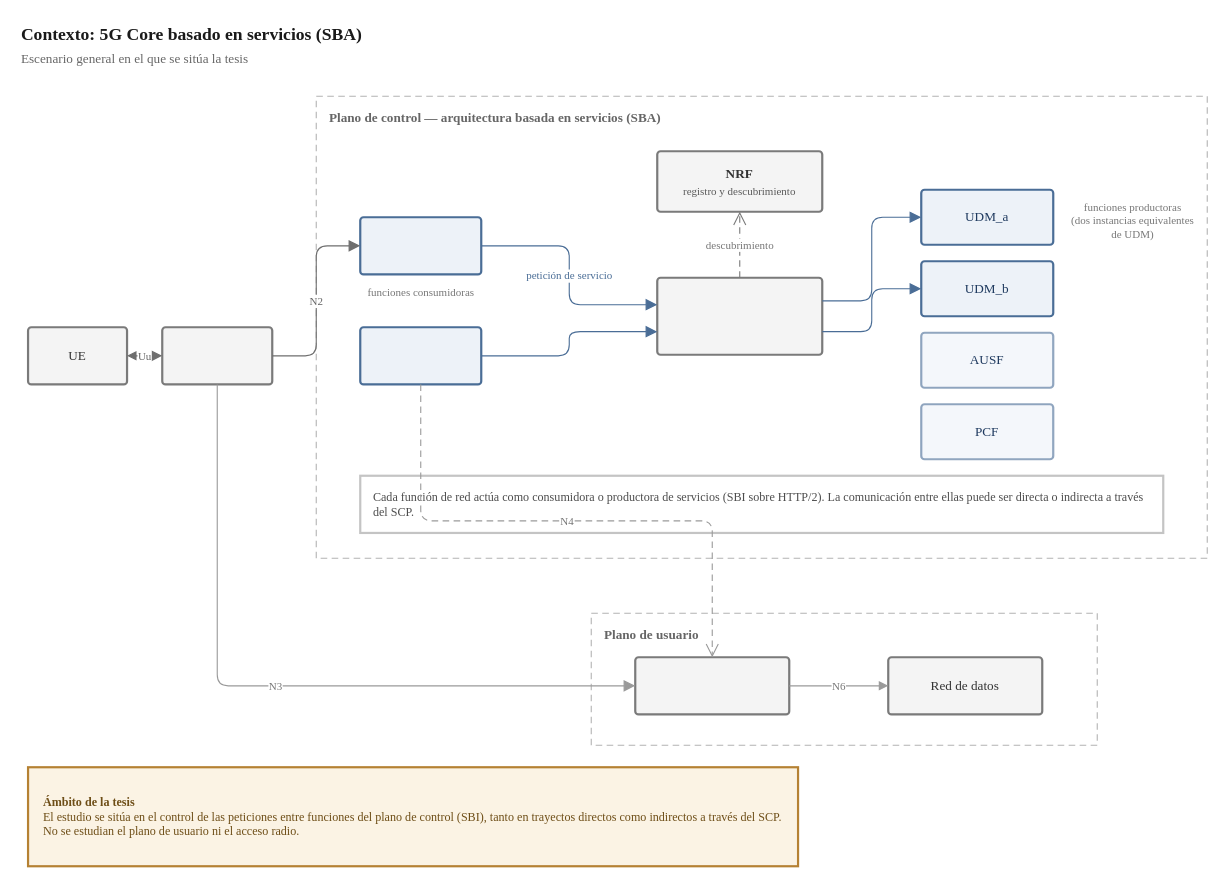
This 1227x886 diagram has some shape labels left out. The shapes that lost their labels are listed below. From the top down, each one's centre as x and y in pixels, then its label:
(420,245): AMF
(739,315): SCP intermediario de comunicación
(217,355): gNB
(420,355): SMF
(712,685): UPF
